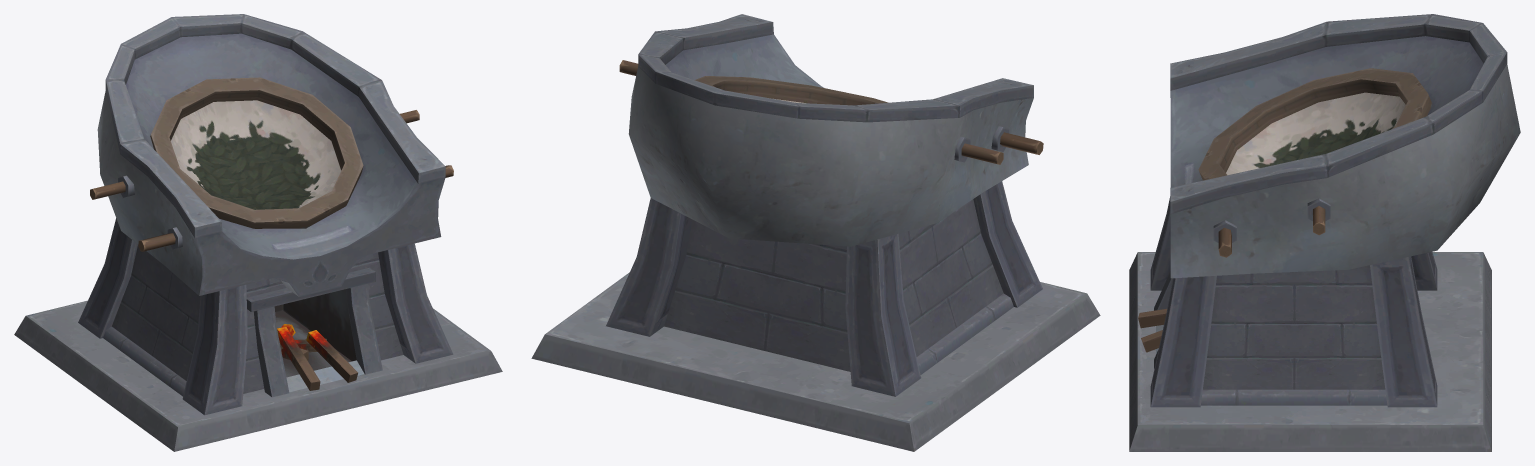
File: Homeworld_Interior_Cyg_Thing_Prop_Chaochaji_01_Vo.fbx
3 renders of one model, left to right at view 1: azimuth 30°, elevation 25°; view 2: azimuth 150°, elevation 25°; view 3: azimuth 270°, elevation 25°, orthographic. The views are drawn at different scales.
Parts seen in each view (by area): view 1: Indoor_Cyg_Prop_QYZ_Chaochaji_02_Vo; view 2: Indoor_Cyg_Prop_QYZ_Chaochaji_02_Vo; view 3: Indoor_Cyg_Prop_QYZ_Chaochaji_02_Vo.
Boxes of the visible parts, left/top/right/bottom form: Indoor_Cyg_Prop_QYZ_Chaochaji_02_Vo: left=14, top=14, right=502, bottom=451; Indoor_Cyg_Prop_QYZ_Chaochaji_02_Vo: left=531, top=14, right=1100, bottom=451; Indoor_Cyg_Prop_QYZ_Chaochaji_02_Vo: left=1129, top=14, right=1520, bottom=451.
Size of the model in its own units: 1.85 by 1.46 by 1.68.
